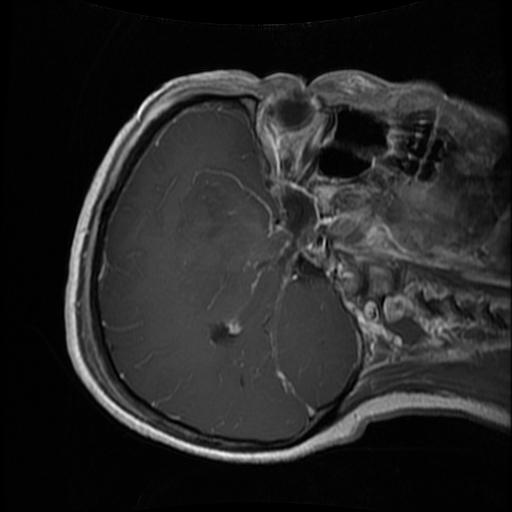glioma: (177, 167, 283, 273)
